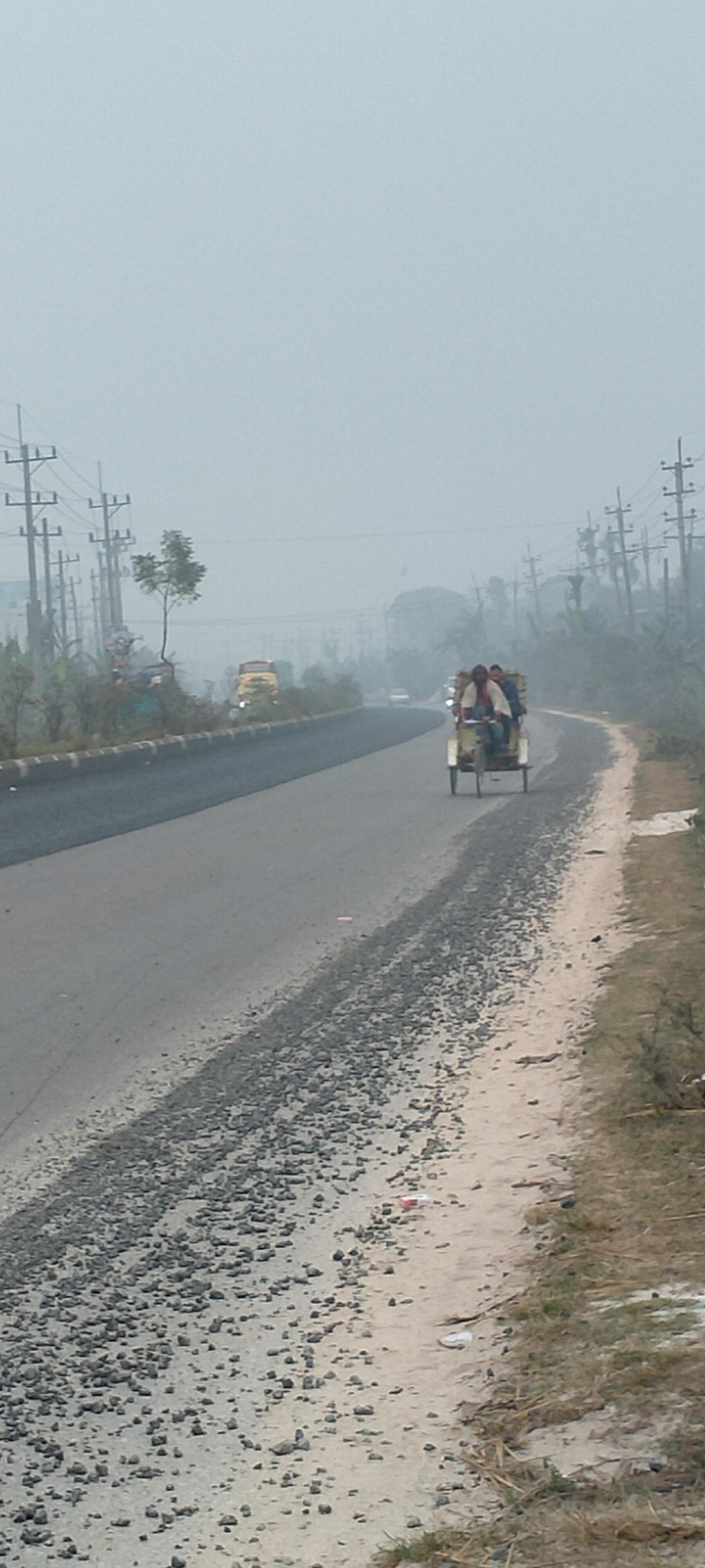Bus: (212, 650, 307, 706)
Car: (434, 648, 545, 815), (383, 678, 416, 719)
